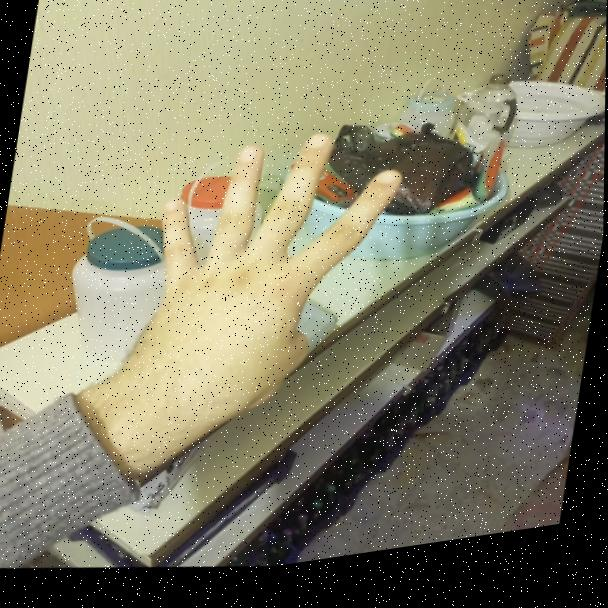four: (128, 109, 407, 457)
